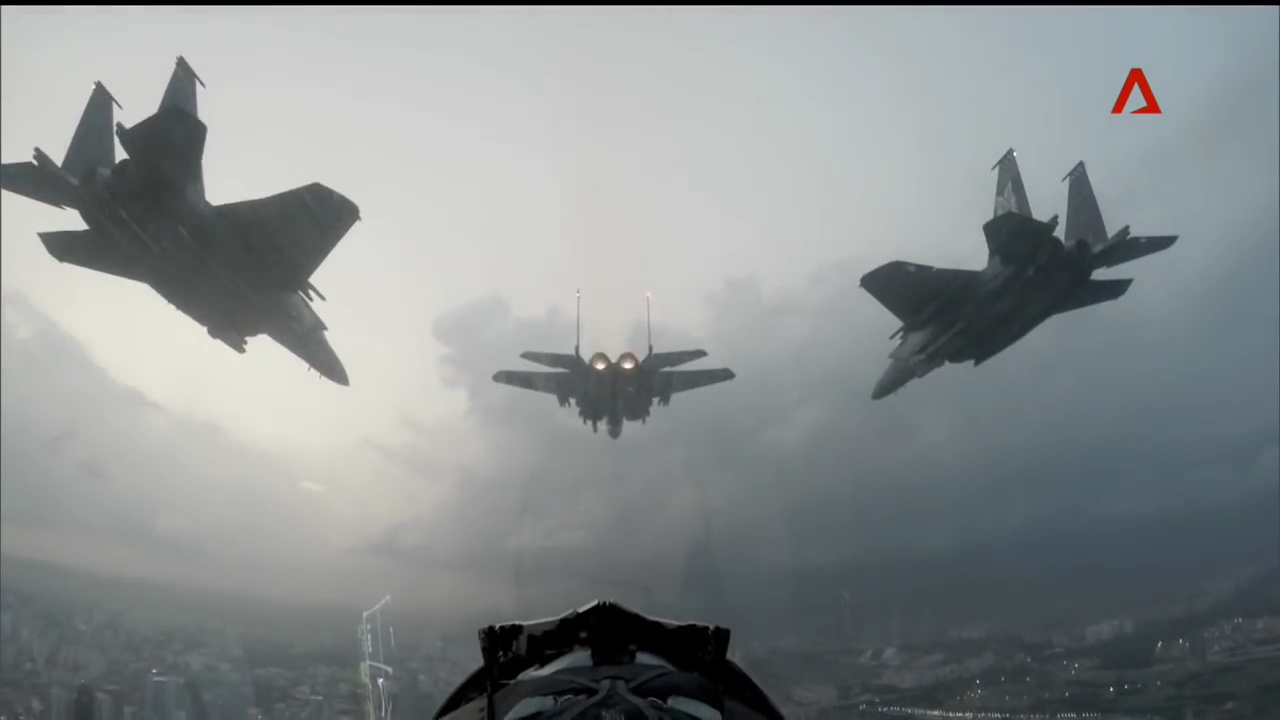f15: (2, 55, 364, 389), (858, 148, 1180, 403), (493, 287, 737, 443)
